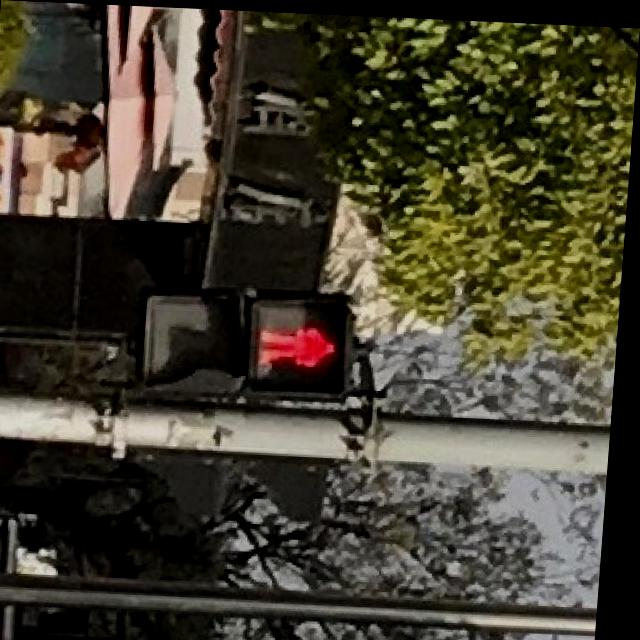red_light: (255, 297, 359, 384)
